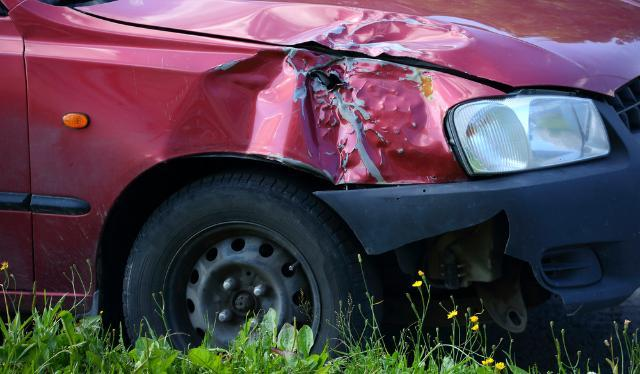dent: (163, 49, 462, 186), (250, 6, 473, 55)
